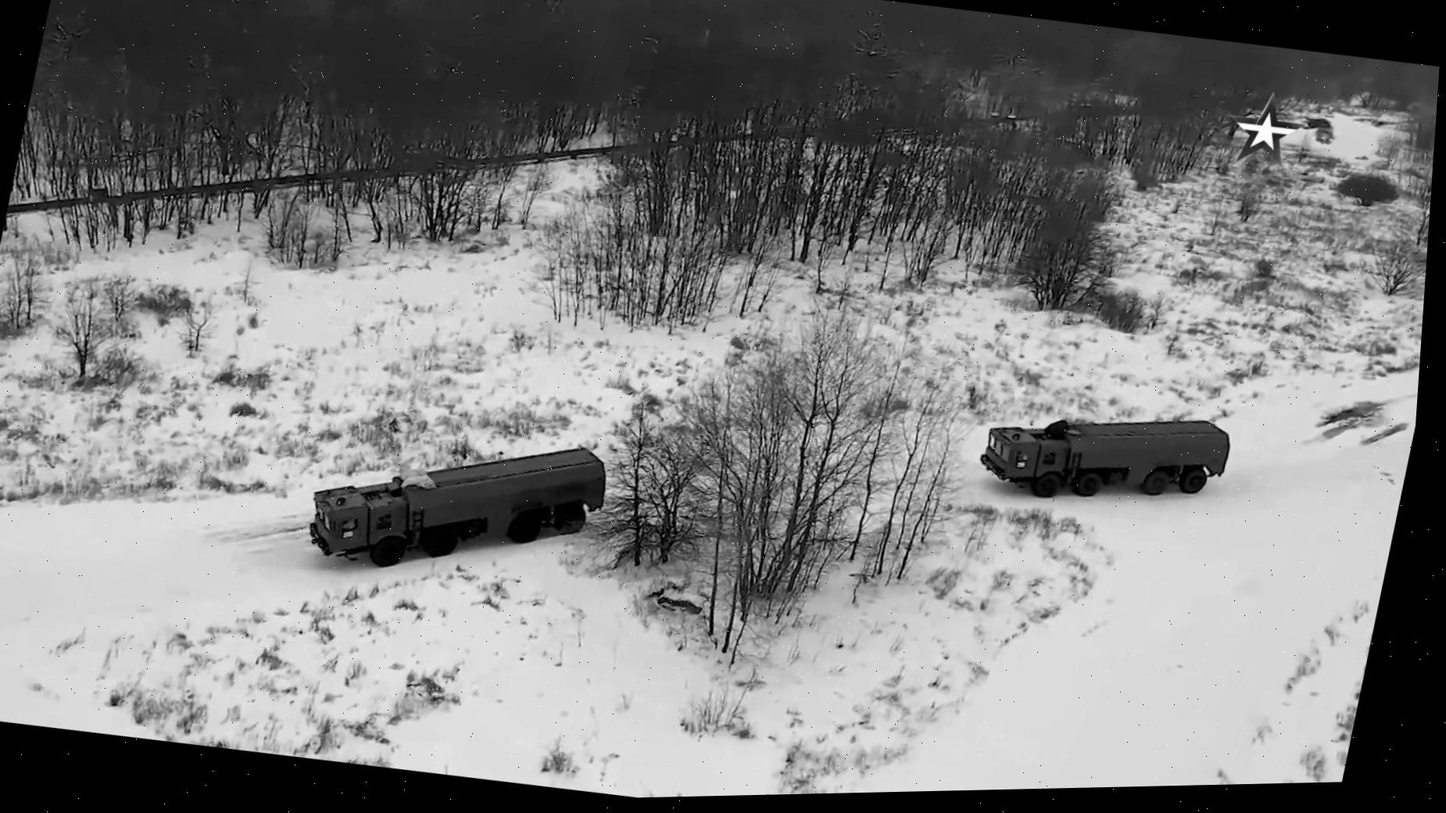rszo: (297, 407, 619, 598), (971, 387, 1238, 522)
